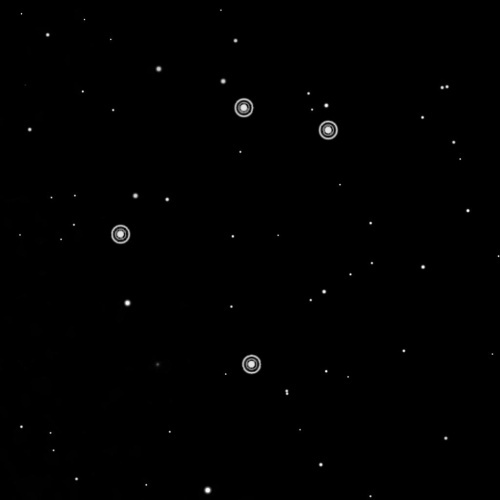coma_berenices: (101, 89, 344, 385)
